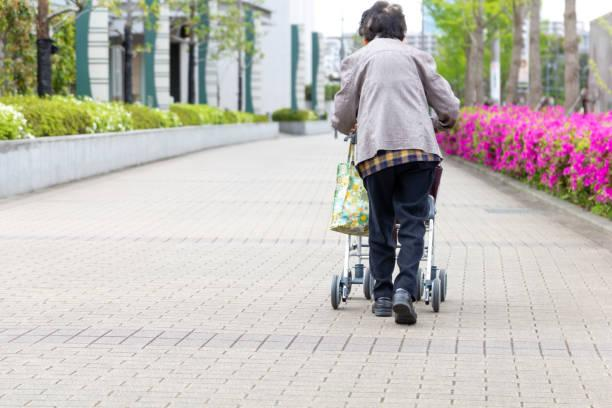Human: (320, 0, 490, 344)
